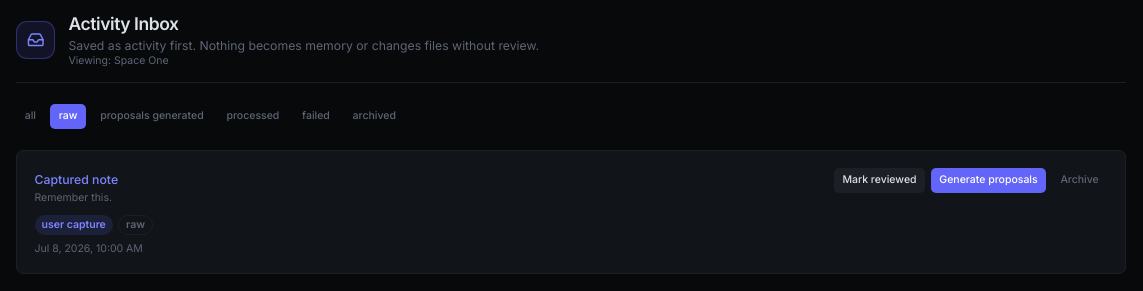
Test: ActivityInboxPage › empties the queue and reports the failure when a filter change cannot load
Check: the link "Captured note" is shown, box [34,172,118,187]
Click the button "archived". click: (374, 116)
box: [344,104,405,128]
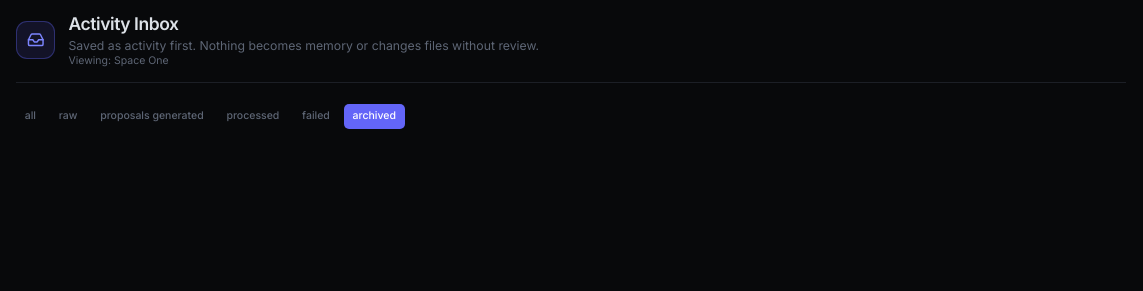
Check: the link "Captured note" is gone
